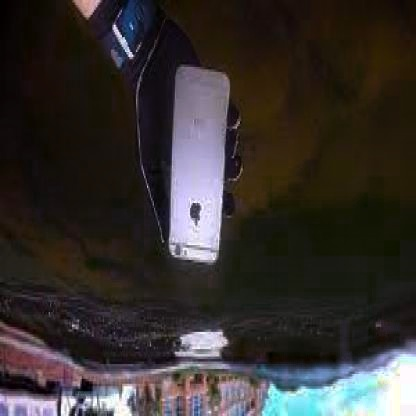cellphone: (164, 62, 232, 267)
